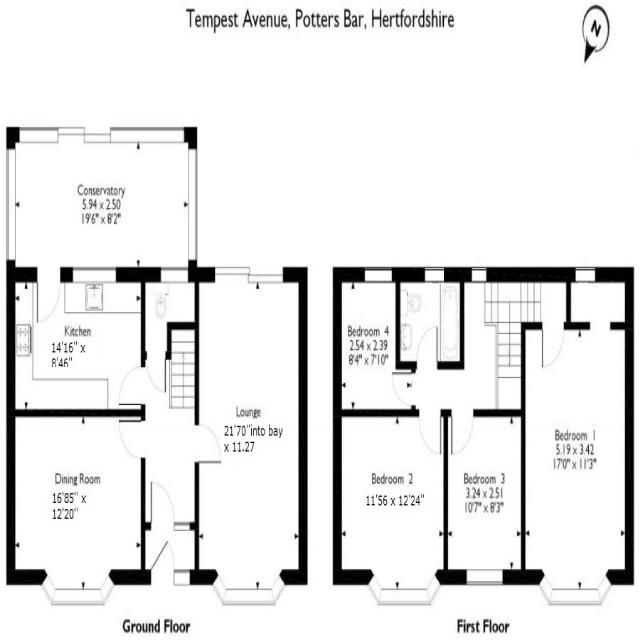DOOR: (35, 265, 64, 326), (149, 478, 176, 533), (417, 406, 443, 460), (116, 418, 147, 463), (117, 363, 147, 407), (193, 423, 223, 466), (450, 407, 475, 458), (150, 539, 175, 588), (415, 323, 439, 373), (541, 319, 565, 369), (390, 369, 417, 410), (145, 349, 168, 396)
ROOM: (193, 265, 309, 610), (520, 319, 634, 610), (5, 407, 146, 608), (331, 408, 449, 610), (5, 266, 146, 418), (442, 406, 527, 585), (332, 265, 417, 419)
SLIDING DOOR: (210, 263, 287, 289), (58, 126, 110, 146)
WINDOW: (109, 126, 186, 145), (187, 146, 199, 264), (5, 146, 17, 263), (221, 585, 276, 607), (50, 586, 106, 607), (376, 585, 432, 606), (546, 586, 602, 607), (18, 125, 59, 146), (465, 568, 503, 587), (159, 264, 191, 285), (270, 571, 287, 607), (211, 573, 228, 608), (366, 572, 383, 607), (425, 573, 442, 608), (596, 574, 613, 609), (364, 265, 393, 285), (537, 572, 554, 606), (40, 573, 57, 606), (99, 573, 115, 606), (424, 265, 445, 285), (575, 265, 596, 284), (173, 567, 191, 588), (471, 265, 488, 284), (173, 519, 191, 532)
